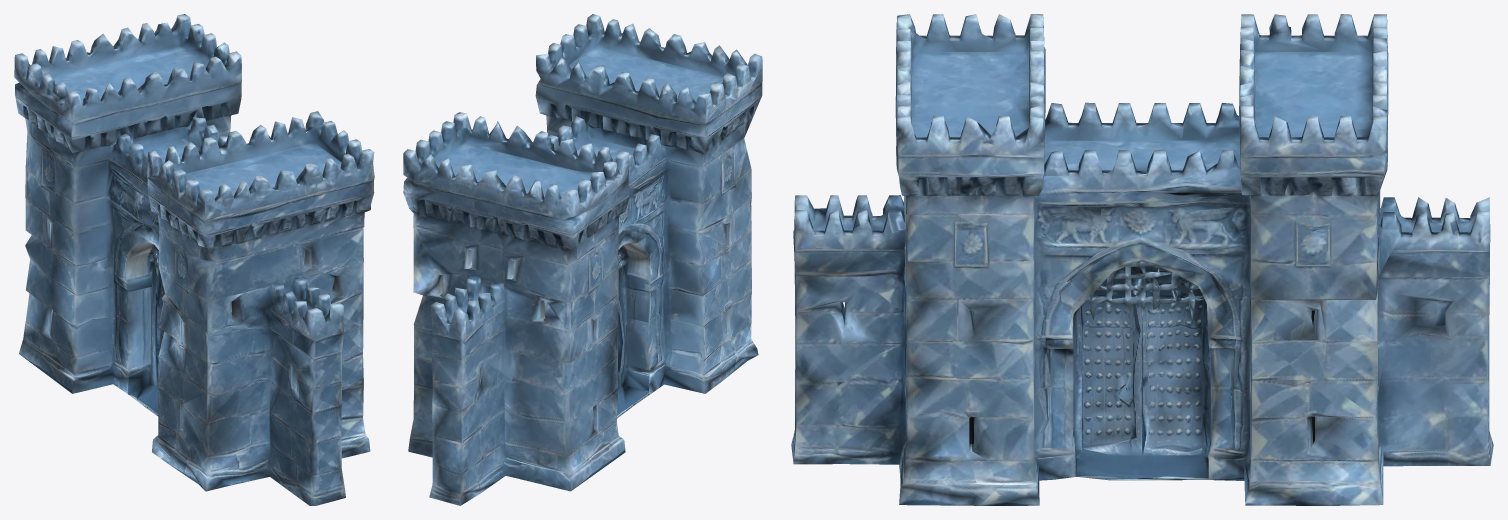
Rendered from castle_gate_diamond_ice.glb.
3 views of the same model, side by side, from view 1: azimuth 30°, elevation 25°; view 2: azimuth 150°, elevation 25°; view 3: azimuth 270°, elevation 25° (orthographic). The views are drawn at different scales.
Visible parts, largest first — view 1: tripo_node_c9715a47-d73a-4e69-864f-7daa05b77624; view 2: tripo_node_c9715a47-d73a-4e69-864f-7daa05b77624; view 3: tripo_node_c9715a47-d73a-4e69-864f-7daa05b77624.
Boxes of the visible parts, x1,y1,x2,y2 form: tripo_node_c9715a47-d73a-4e69-864f-7daa05b77624: (14,14,374,505); tripo_node_c9715a47-d73a-4e69-864f-7daa05b77624: (403,14,762,505); tripo_node_c9715a47-d73a-4e69-864f-7daa05b77624: (791,14,1493,505).
Size of the model in its own units: 0.3583 by 0.5968 by 0.9815.
1 material, 1 textured.
